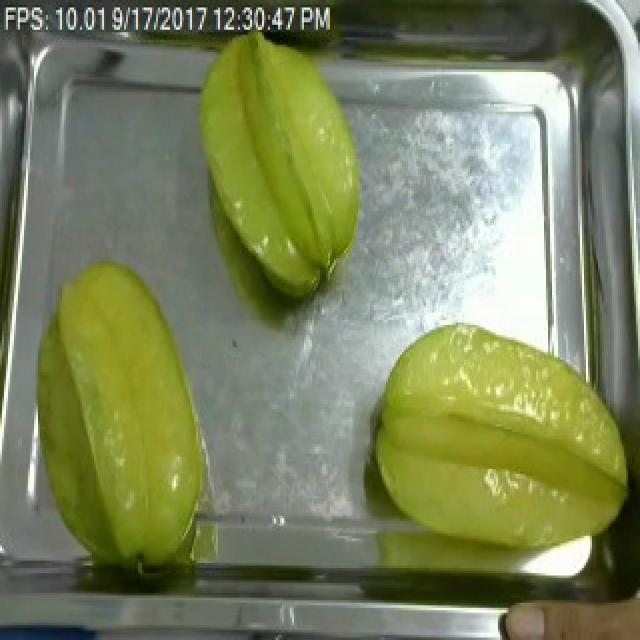fruit: (356, 302, 640, 586), (16, 245, 220, 588), (184, 22, 372, 312), (492, 563, 640, 640)
